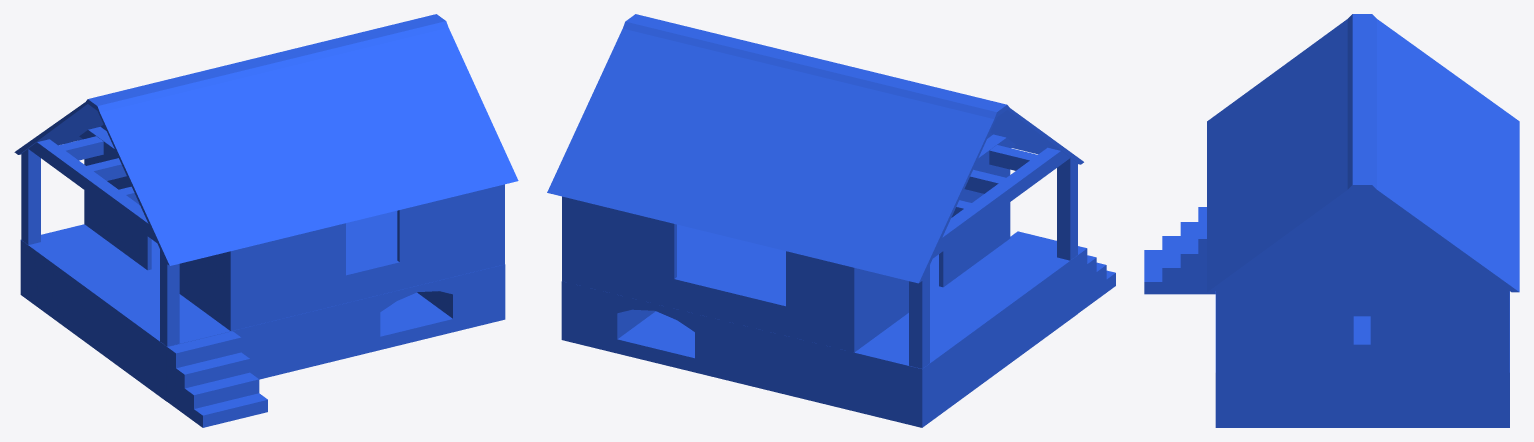
File: Casa Molino 1.FBX
3 views of the same model, side by side, from view 1: azimuth 30°, elevation 25°; view 2: azimuth 150°, elevation 25°; view 3: azimuth 270°, elevation 25° (orthographic). The views are drawn at different scales.
Visible parts, largest first — view 1: Casa Molino; view 2: Casa Molino; view 3: Casa Molino.
Part boxes in pixels (box(x1,y1,x2,y2)): Casa Molino: box(14, 14, 518, 427); Casa Molino: box(547, 14, 1115, 427); Casa Molino: box(1144, 14, 1519, 427).
Bounding box in the file's own units: 132 × 88.8 × 122.
